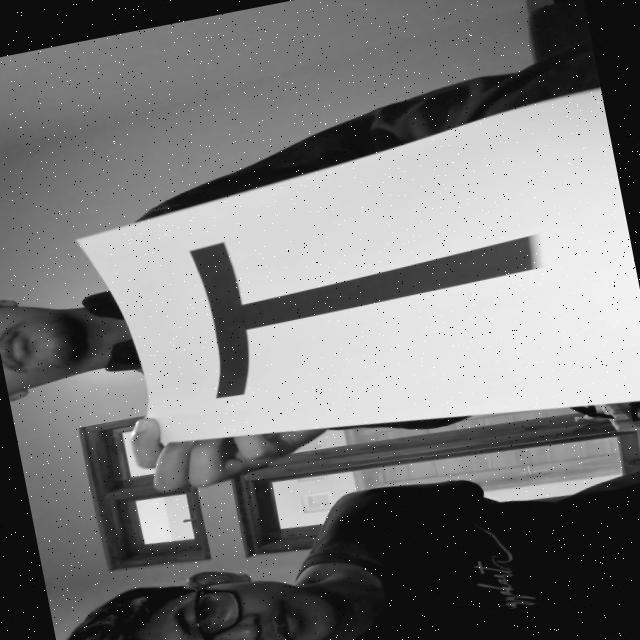t: (155, 139, 595, 421)
